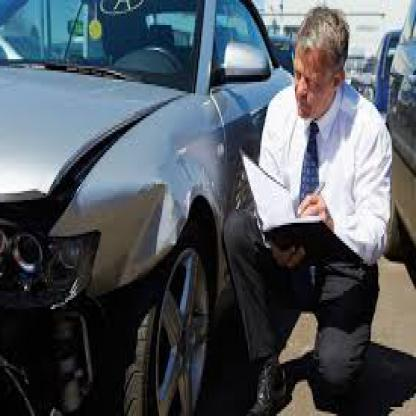dent: (132, 177, 181, 248)
